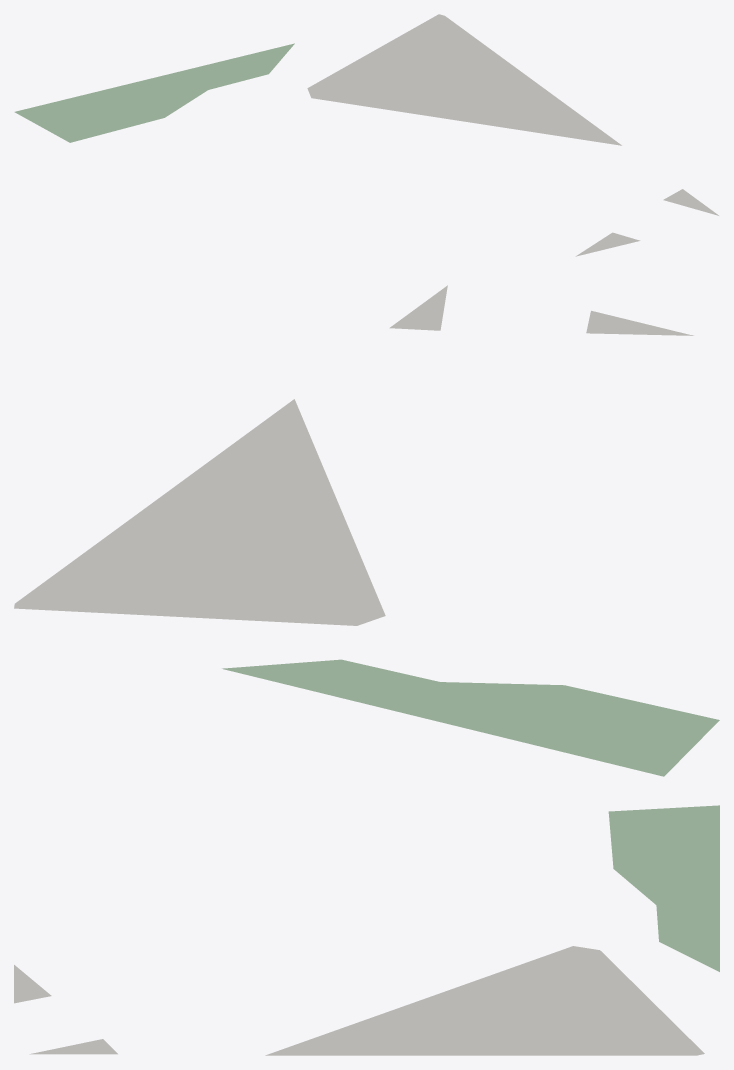
Rendered from 91_104_mid.glb.
3 renders of one model, top to bottom at view 1: azimuth 30°, elevation 25°; view 2: azimuth 150°, elevation 25°; view 3: azimuth 270°, elevation 25°, orthographic. The views are drawn at different scales.
Bounding box in the file's own units: 419 × 1.36 × 500.
